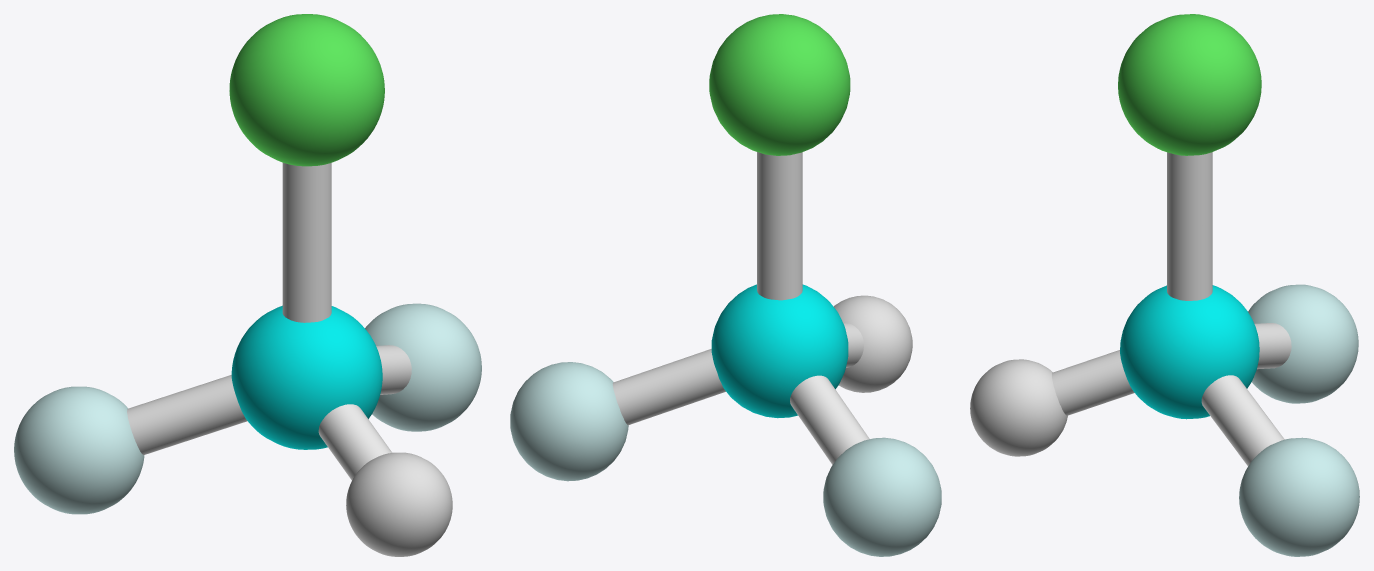
File: CHClF2.fbx
The picture shows the model from 3 angles, left to right: view 1: azimuth 30°, elevation 25°; view 2: azimuth 150°, elevation 25°; view 3: azimuth 270°, elevation 25°; orthographic projection. The views are drawn at different scales.
Parts seen in each view (by area): view 1: CHClF2; view 2: CHClF2; view 3: CHClF2.
Part boxes in pixels (box(x1,y1,x2,y2)): CHClF2: box(14, 14, 481, 556); CHClF2: box(510, 14, 941, 556); CHClF2: box(970, 14, 1359, 556).
Size of the model in its own units: 2.9 by 3.01 by 2.34.
